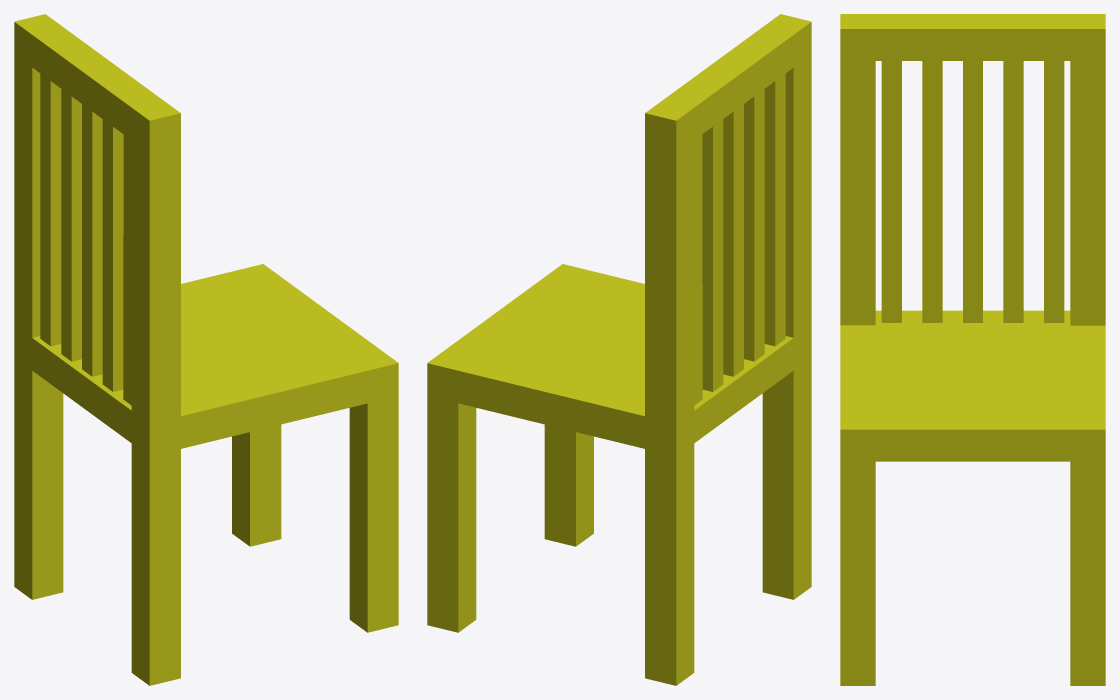
Rendered from Chair (Fixed V2).fbx.
3 views of the same model, side by side, from view 1: azimuth 30°, elevation 25°; view 2: azimuth 150°, elevation 25°; view 3: azimuth 270°, elevation 25° (orthographic). The views are drawn at different scales.
Parts seen in each view (by area): view 1: HR0 Chair 0; view 2: HR0 Chair 0; view 3: HR0 Chair 0.
Part boxes in pixels (left/top/right/bottom): HR0 Chair 0: left=14, top=14, right=398, bottom=685; HR0 Chair 0: left=427, top=14, right=811, bottom=685; HR0 Chair 0: left=840, top=14, right=1105, bottom=685.
Bounding box in the file's own units: 23.94 × 51.9 × 22.56.
